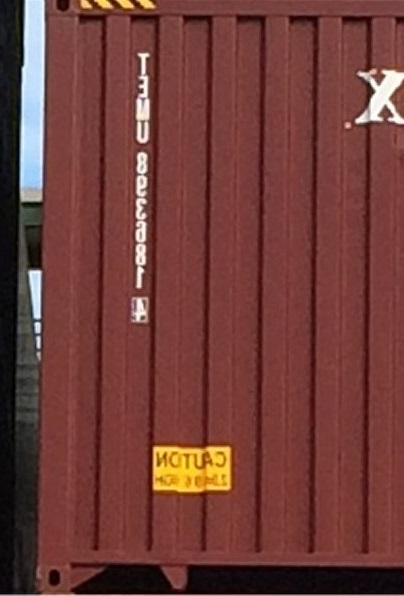container_no_door: (43, 1, 398, 593)
